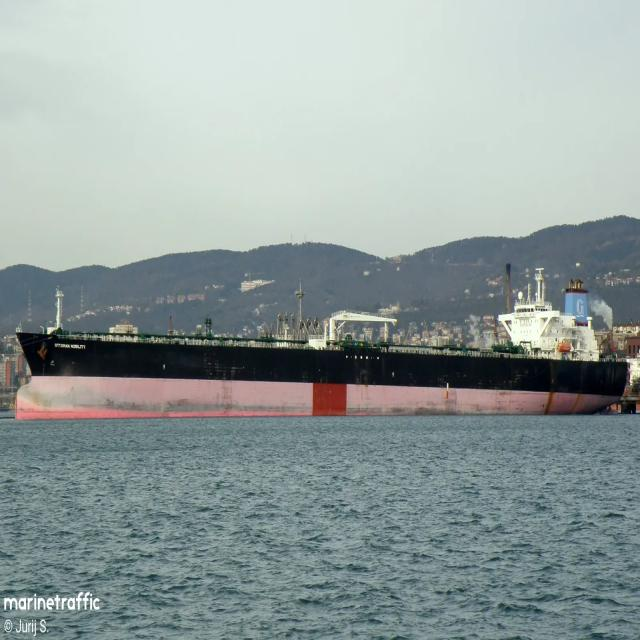Tanker: (16, 268, 626, 419)
